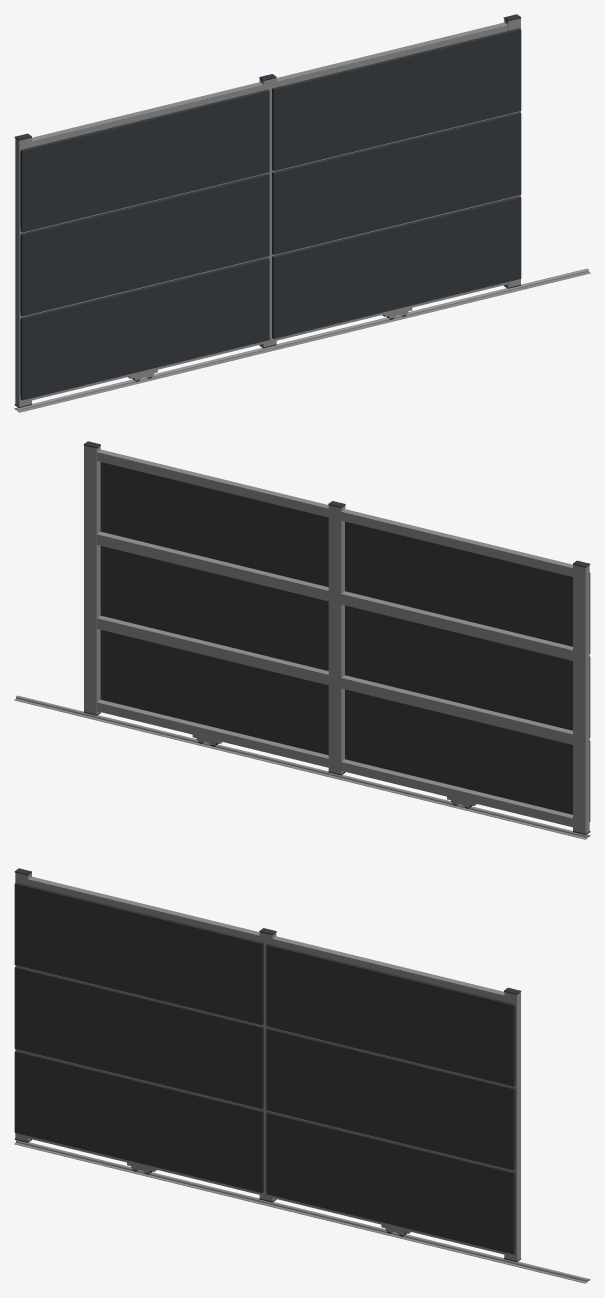
3 renders of one model, top to bottom at view 1: azimuth 30°, elevation 25°; view 2: azimuth 150°, elevation 25°; view 3: azimuth 330°, elevation 25°, orthographic.
Visible parts, largest first — view 1: placa, placa001, Rectangle098, Rail, Pilar, Rectangle097, Pilar002, Rectangle099, Rectangle100; view 2: placa, placa001, Rectangle099, Rectangle100, Rectangle097, Rectangle098, Pilar, Pilar002, Pilar001, Rail; view 3: placa001, placa, Rectangle098, Rail, Pilar001, Rectangle097, Pilar002, Rectangle099, Rectangle100.
Boxes of the visible parts, left/top/right/bottom form: placa: left=20, top=89, right=269, bottom=400; placa001: left=272, top=28, right=521, bottom=338; Rectangle098: left=32, top=22, right=507, bottom=146; Rail: left=14, top=268, right=590, bottom=412; Pilar: left=15, top=137, right=31, bottom=406; Rectangle097: left=32, top=282, right=507, bottom=400; Pilar002: left=259, top=78, right=276, bottom=347; Rectangle099: left=32, top=198, right=507, bottom=314; Rectangle100: left=32, top=114, right=507, bottom=230; placa: left=345, top=521, right=590, bottom=821; placa001: left=100, top=462, right=328, bottom=755; Rectangle099: left=97, top=615, right=572, bottom=744; Rectangle100: left=97, top=531, right=572, bottom=660; Rectangle097: left=97, top=699, right=572, bottom=827; Rectangle098: left=97, top=449, right=572, bottom=576; Pilar: left=573, top=564, right=589, bottom=833; Pilar002: left=328, top=505, right=345, bottom=773; Pilar001: left=84, top=445, right=100, bottom=714; Rail: left=14, top=695, right=590, bottom=839; placa001: left=266, top=943, right=515, bottom=1254; placa: left=14, top=882, right=263, bottom=1192; Rectangle098: left=28, top=876, right=504, bottom=1000; Rail: left=14, top=1140, right=590, bottom=1283; Pilar001: left=504, top=992, right=520, bottom=1260; Rectangle097: left=28, top=1136, right=504, bottom=1254; Pilar002: left=259, top=932, right=276, bottom=1201; Rectangle099: left=28, top=1052, right=504, bottom=1168; Rectangle100: left=28, top=968, right=504, bottom=1084.
Size of the model in its own units: 3600 by 1640 by 71.4.
Materials: 7 (3 with a texture image).
